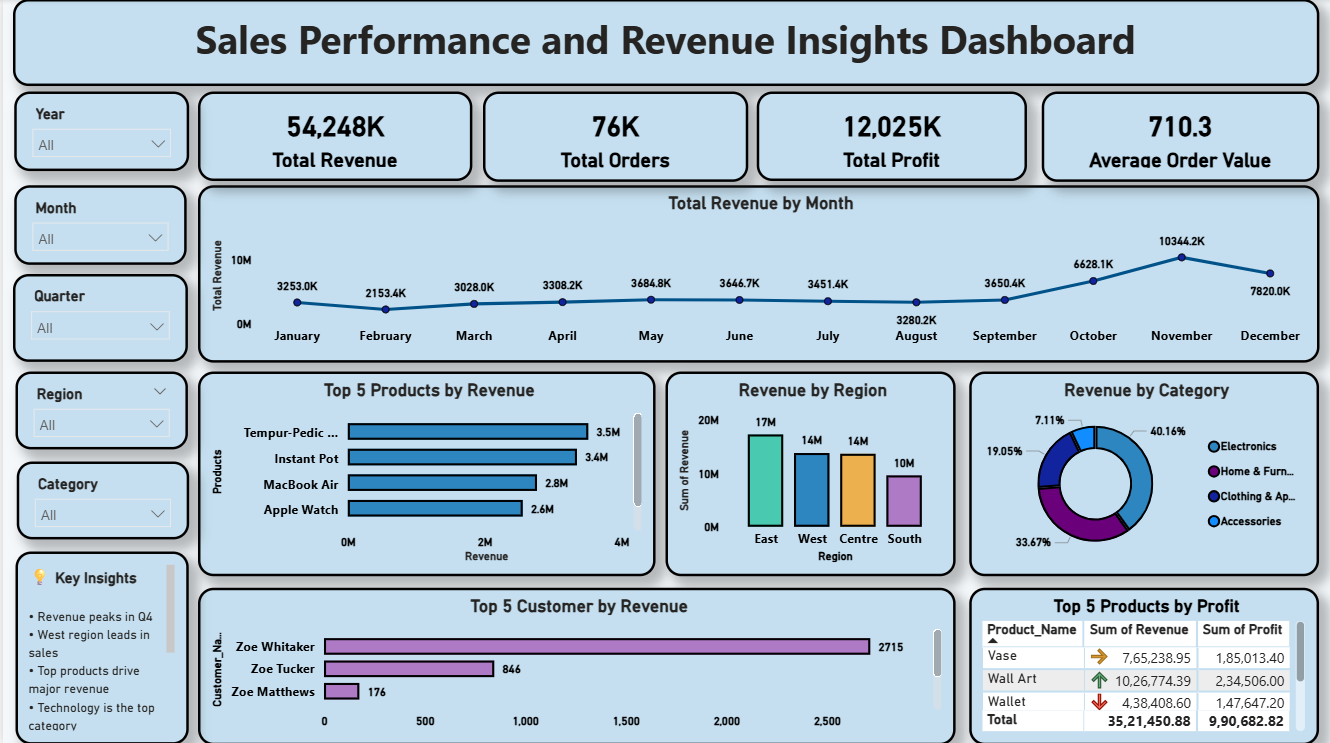

What the dashboard file says about the page in this screenshot:
{"tool":"powerbi","page":{"name":"Page 1","canvas":[1280,720],"ordinal":0},"visuals":[{"type":"lineChart","fields":{"Category":["sales_project sales_data.order_date.Variation.Date Hierarchy.Month"],"Y":["sales_project sales_data.Total Revenue"]},"box":[188.2,179.8,1082.2,171.3],"z":0},{"type":"textbox","box":[9.6,0,1261.1,83.7],"z":1000},{"type":"card","fields":{"Values":["sales_project sales_data.Total Revenue"]},"box":[188,89.2,264.8,86.4],"z":2000},{"type":"card","fields":{"Values":["sales_project sales_data.Total Orders"]},"box":[463.3,89.3,255.8,86.9],"z":3000},{"type":"card","fields":{"Values":["sales_project sales_data.Total Profit"]},"box":[727.8,89.2,260.7,86.4],"z":4000},{"type":"card","fields":{"Values":["sales_project sales_data.Average Order Value"]},"box":[1002.6,89.3,267.8,86.9],"z":5000},{"type":"clusteredBarChart","title":"Top 5 Products by Revenue ","fields":{"Category":["sales_project sales_data.Product_Name"],"Y":["Sum(sales_project sales_data.Revenue)"]},"box":[188,359.5,441.9,197.6],"z":6000},{"type":"columnChart","title":"Revenue by Region","fields":{"Category":["sales_project sales_data.Region"],"Y":["Sum(sales_project sales_data.Revenue)"]},"box":[639.4,359.5,279.9,197.9],"z":7000},{"type":"donutChart","title":"Revenue by Category","fields":{"Category":["sales_project sales_data.Category"],"Y":["Sum(sales_project sales_data.Revenue)"]},"box":[932.6,359.5,337.8,197.9],"z":8000},{"type":"slicer","fields":{"Values":["sales_project sales_data.order_date.Variation.Date Hierarchy.Year"]},"box":[11,89.2,168.8,76.8],"z":9000},{"type":"slicer","fields":{"Values":["sales_project sales_data.order_date.Variation.Date Hierarchy.Month"]},"box":[11,179.8,166,76.8],"z":10000},{"type":"slicer","fields":{"Values":["sales_project sales_data.order_date.Variation.Date Hierarchy.Quarter"]},"box":[9.6,264.8,168.8,85.1],"z":11000},{"type":"slicer","fields":{"Values":["sales_project sales_data.Region"]},"box":[12.3,359.5,166,75.5],"z":12000},{"type":"slicer","fields":{"Values":["sales_project sales_data.Category"]},"box":[13.7,446,166,75.5],"z":13000},{"type":"barChart","title":"Top 5 Customer by Revenue","fields":{"Category":["sales_project sales_data.Customer_Name"],"Y":["Sum(sales_project sales_data.Revenue)"]},"box":[188.2,568.2,731.1,152],"z":14000},{"type":"textbox","box":[12.3,533.8,167.4,186.6],"z":15000},{"type":"pivotTable","title":"Top 5 Products by Profit ","fields":{"Rows":["sales_project sales_data.Product_Name"],"Values":["Sum(sales_project sales_data.Revenue)","Sum(sales_project sales_data.Profit)"]},"box":[932.6,568.2,337.8,152],"z":16000}]}

Visuals, with their boxes in screenshot pixels (x1, y1, x2, y2), scaled from the page's 1280x720 canvas onto the 1330x743 screenshot:
lineChart - sales_project sales_data.order_date.Variation.Date Hierarchy.Month x sales_project sales_data.Total Revenue: rect(196, 186, 1320, 362)
textbox: rect(10, 0, 1320, 86)
card - sales_project sales_data.Total Revenue: rect(195, 92, 470, 181)
card - sales_project sales_data.Total Orders: rect(481, 92, 747, 182)
card - sales_project sales_data.Total Profit: rect(756, 92, 1027, 181)
card - sales_project sales_data.Average Order Value: rect(1042, 92, 1320, 182)
"Top 5 Products by Revenue " clusteredBarChart: rect(195, 371, 655, 575)
"Revenue by Region" columnChart: rect(664, 371, 955, 575)
"Revenue by Category" donutChart: rect(969, 371, 1320, 575)
slicer - sales_project sales_data.order_date.Variation.Date Hierarchy.Year: rect(11, 92, 187, 171)
slicer - sales_project sales_data.order_date.Variation.Date Hierarchy.Month: rect(11, 186, 184, 265)
slicer - sales_project sales_data.order_date.Variation.Date Hierarchy.Quarter: rect(10, 273, 185, 361)
slicer - sales_project sales_data.Region: rect(13, 371, 185, 449)
slicer - sales_project sales_data.Category: rect(14, 460, 187, 538)
"Top 5 Customer by Revenue" barChart: rect(196, 586, 955, 742)
textbox: rect(13, 551, 187, 742)
"Top 5 Products by Profit " pivotTable: rect(969, 586, 1320, 742)
